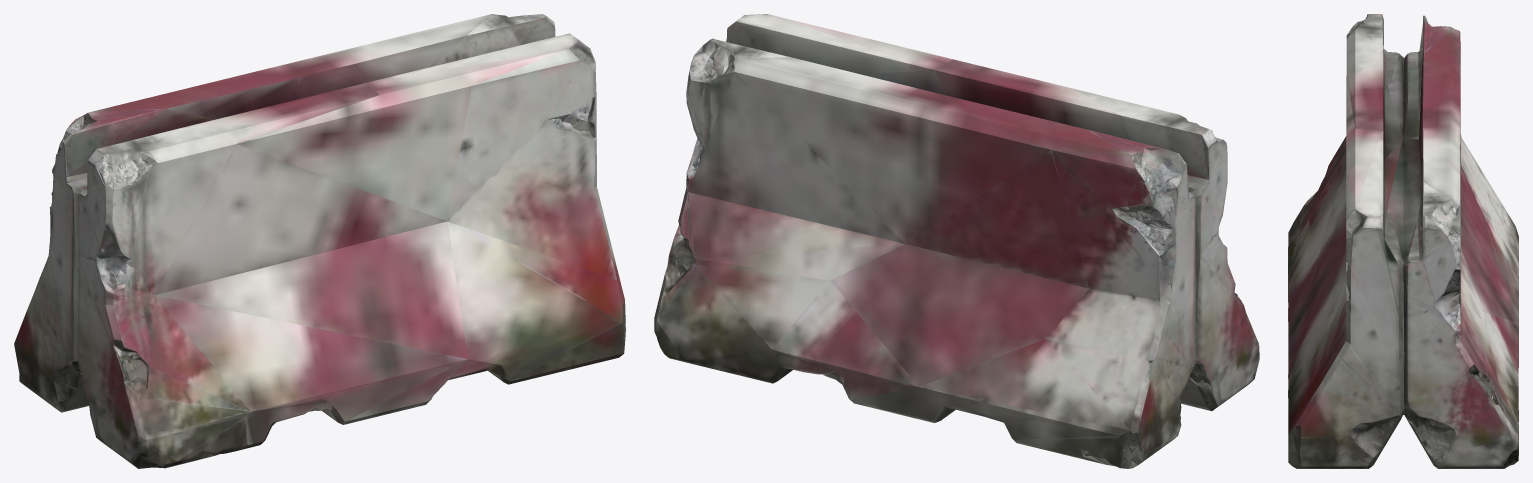
Rendered from barrier_concrete.glb.
3 views of the same model, side by side, from view 1: azimuth 30°, elevation 25°; view 2: azimuth 150°, elevation 25°; view 3: azimuth 270°, elevation 25° (orthographic). The views are drawn at different scales.
Visible parts, largest first — view 1: Mesh_0; view 2: Mesh_0; view 3: Mesh_0.
Boxes of the visible parts, x1=… form: Mesh_0: x1=14, y1=14, x2=625, y2=468; Mesh_0: x1=654, y1=14, x2=1259, y2=468; Mesh_0: x1=1288, y1=14, x2=1518, y2=468.
Size of the model in its own units: 1.9 by 1.06 by 0.8816.
1 material, 1 textured.
